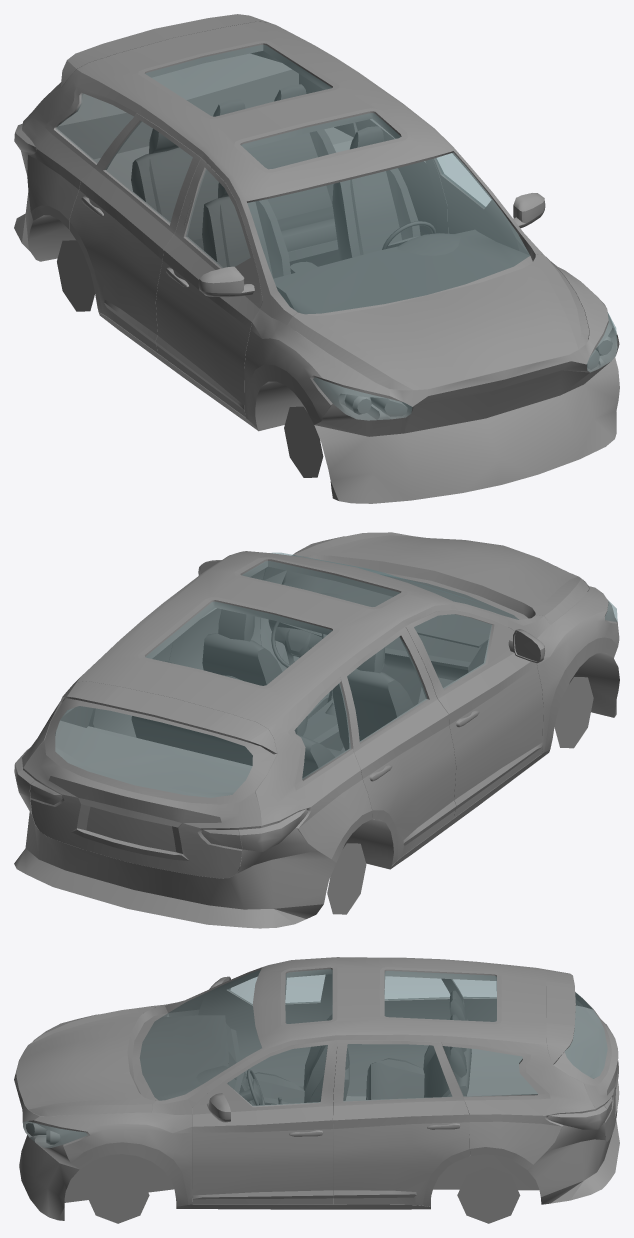
The model's file is SUV_2.FBX.
3 views of the same model, one above another, from view 1: azimuth 30°, elevation 25°; view 2: azimuth 150°, elevation 25°; view 3: azimuth 270°, elevation 25° (orthographic). The views are drawn at different scales.
Visible parts, largest first — view 1: SUV_2_Body, SUV_2_Dashboard, SUV_2_Window_F, SUV_2_Hood, SUV_2_Door_FR, SUV_2_Door_RR, SUV_2_Roof_Window_R, SUV_2_Door_Window_RR, SUV_2_Roof_Window_F, SUV_2_Door_FL, SUV_2_Door_Window_FR, SUV_2_Trunk (+7 smaller); view 2: SUV_2_Body, SUV_2_Trunk, SUV_2_Dashboard, SUV_2_Door_FR, SUV_2_Door_RR, SUV_2_Trunk_Window, SUV_2_Hood, SUV_2_Roof_Window_R, SUV_2_Door_Window_RR, SUV_2_Door_Window_FR, SUV_2_Body_Window_RR, SUV_2_Roof_Window_F (+6 smaller); view 3: SUV_2_Body, SUV_2_Door_FL, SUV_2_Door_RL, SUV_2_Dashboard, SUV_2_Hood, SUV_2_Window_F, SUV_2_Door_Window_RL, SUV_2_Trunk, SUV_2_Roof_Window_R, SUV_2_Door_FR, SUV_2_Door_Window_FL, SUV_2_Door_RR (+9 smaller).
Boxes of the visible parts, <box> form: SUV_2_Body: <box>14,21,619,503</box>; SUV_2_Dashboard: <box>131,84,529,314</box>; SUV_2_Window_F: <box>247,153,529,313</box>; SUV_2_Hood: <box>288,254,589,389</box>; SUV_2_Door_FR: <box>155,158,262,417</box>; SUV_2_Door_RR: <box>69,113,201,352</box>; SUV_2_Roof_Window_R: <box>145,45,331,116</box>; SUV_2_Door_Window_RR: <box>105,121,192,222</box>; SUV_2_Roof_Window_F: <box>241,113,400,168</box>; SUV_2_Door_FL: <box>433,152,545,250</box>; SUV_2_Door_Window_FR: <box>186,169,250,267</box>; SUV_2_Trunk: <box>45,14,267,97</box>; SUV_2_Body: <box>14,536,619,928</box>; SUV_2_Trunk: <box>23,681,277,878</box>; SUV_2_Dashboard: <box>131,570,518,777</box>; SUV_2_Door_FR: <box>405,609,544,817</box>; SUV_2_Door_RR: <box>339,626,456,865</box>; SUV_2_Trunk_Window: <box>55,706,252,797</box>; SUV_2_Hood: <box>293,532,589,624</box>; SUV_2_Roof_Window_R: <box>146,602,332,685</box>; SUV_2_Door_Window_RR: <box>347,636,426,741</box>; SUV_2_Door_Window_FR: <box>414,614,491,688</box>; SUV_2_Body_Window_RR: <box>295,683,350,778</box>; SUV_2_Roof_Window_F: <box>242,561,399,606</box>; SUV_2_Body: <box>14,957,619,1220</box>; SUV_2_Door_FL: <box>192,1040,337,1204</box>; SUV_2_Door_RL: <box>332,1040,469,1206</box>; SUV_2_Dashboard: <box>139,990,471,1105</box>; SUV_2_Hood: <box>16,1006,155,1116</box>; SUV_2_Window_F: <box>140,970,261,1100</box>; SUV_2_Door_Window_RL: <box>343,1044,451,1101</box>; SUV_2_Trunk: <box>546,969,619,1141</box>; SUV_2_Roof_Window_R: <box>384,971,496,1021</box>; SUV_2_Door_FR: <box>198,970,332,1086</box>; SUV_2_Door_Window_FL: <box>227,1045,327,1105</box>; SUV_2_Door_RR: <box>332,978,464,1096</box>.
Size of the model in its own units: 89.95 by 55.89 by 172.
